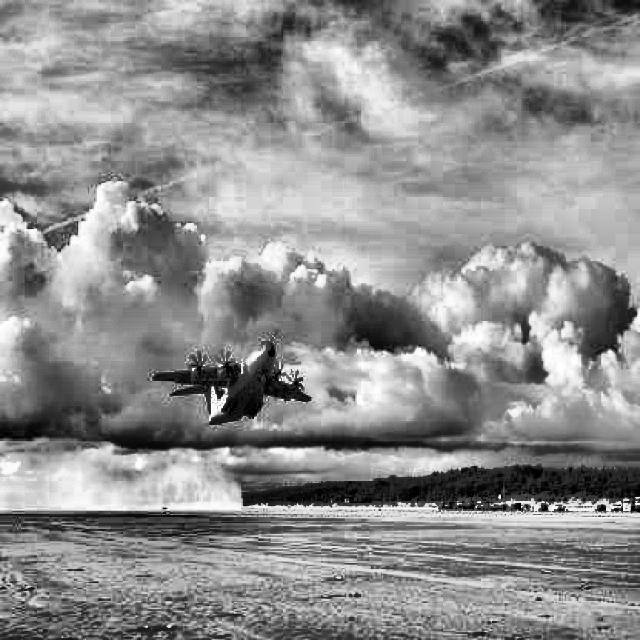A400M: (152, 330, 312, 425)
